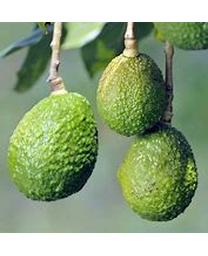avocado: (6, 90, 100, 202), (118, 122, 199, 222), (96, 49, 167, 137)
